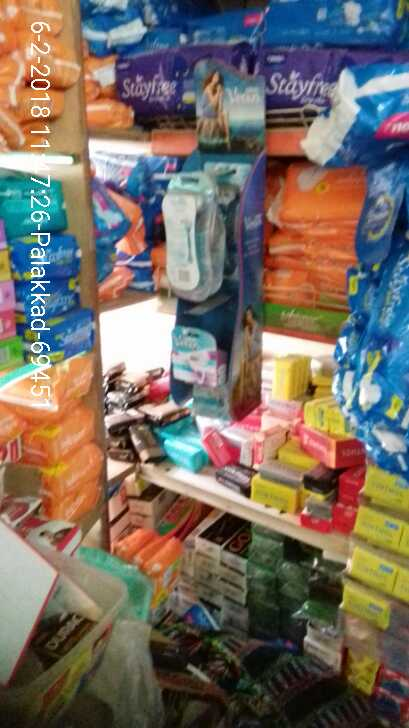venus: (164, 325, 220, 390)
